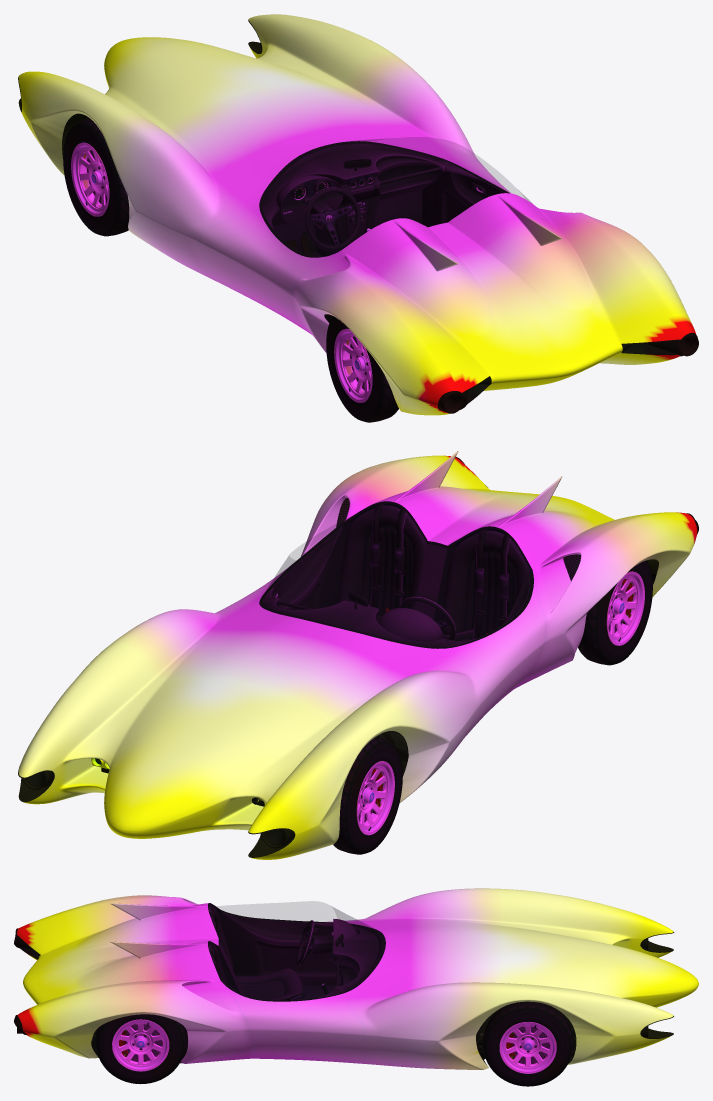
File: scramjet.glb
3 renders of one model, top to bottom at view 1: azimuth 30°, elevation 25°; view 2: azimuth 150°, elevation 25°; view 3: azimuth 270°, elevation 25°, orthographic. The views are drawn at different scales.
Visible parts, largest first — view 1: bodyshell, chassis, door_dside_f, wheel_lf, wheel_lr, window_lf, door_pside_f, windscreen, steeringwheel, window_rf; view 2: bodyshell, chassis, windscreen, door_dside_f, wheel_lf, wheel_lr, window_lf, door_pside_f; view 3: bodyshell, chassis, door_pside_f, wheel_rf, wheel_rr, door_dside_f, windscreen, window_rf, window_lf, steeringwheel.
Boxes of the visible parts, x1,y1,x2,y2 form: bodyshell: [18, 14, 698, 415]; chassis: [18, 41, 451, 323]; door_dside_f: [199, 207, 335, 330]; wheel_lf: [63, 118, 129, 236]; wheel_lr: [326, 316, 398, 422]; window_lf: [260, 184, 352, 256]; door_pside_f: [434, 160, 511, 225]; windscreen: [260, 137, 452, 207]; steeringwheel: [304, 187, 360, 250]; window_rf: [452, 143, 531, 202]; bodyshell: [18, 451, 698, 859]; chassis: [18, 498, 658, 857]; windscreen: [260, 558, 453, 648]; door_dside_f: [445, 573, 545, 734]; wheel_lf: [333, 736, 402, 854]; wheel_lr: [578, 560, 652, 665]; window_lf: [452, 558, 533, 646]; door_pside_f: [221, 526, 342, 610]; bodyshell: [14, 888, 698, 1069]; chassis: [91, 903, 673, 1064]; door_pside_f: [222, 981, 364, 1061]; wheel_rf: [483, 1001, 573, 1086]; wheel_rr: [95, 1014, 185, 1084]; door_dside_f: [222, 910, 350, 983]; windscreen: [319, 902, 385, 992]; window_rf: [216, 962, 341, 1000]; window_lf: [218, 901, 336, 921]; steeringwheel: [296, 920, 314, 966].
Size of the model in its own units: 1.89 by 0.8634 by 4.71.
Materials: 17 (17 with a texture image).
